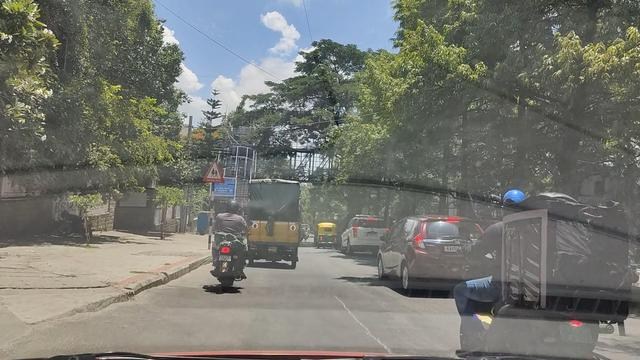HMV: (242, 177, 305, 264)
LMV: (437, 178, 640, 360)
RoadDamages: (311, 295, 393, 353)
